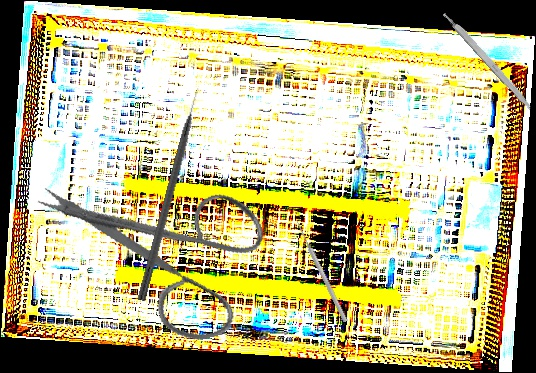Hook Surgical: (137, 86, 205, 303)
Iris Scissors: (32, 136, 286, 373)
Pusher: (294, 220, 349, 323)
Scalpel Handle: (441, 9, 536, 112)
